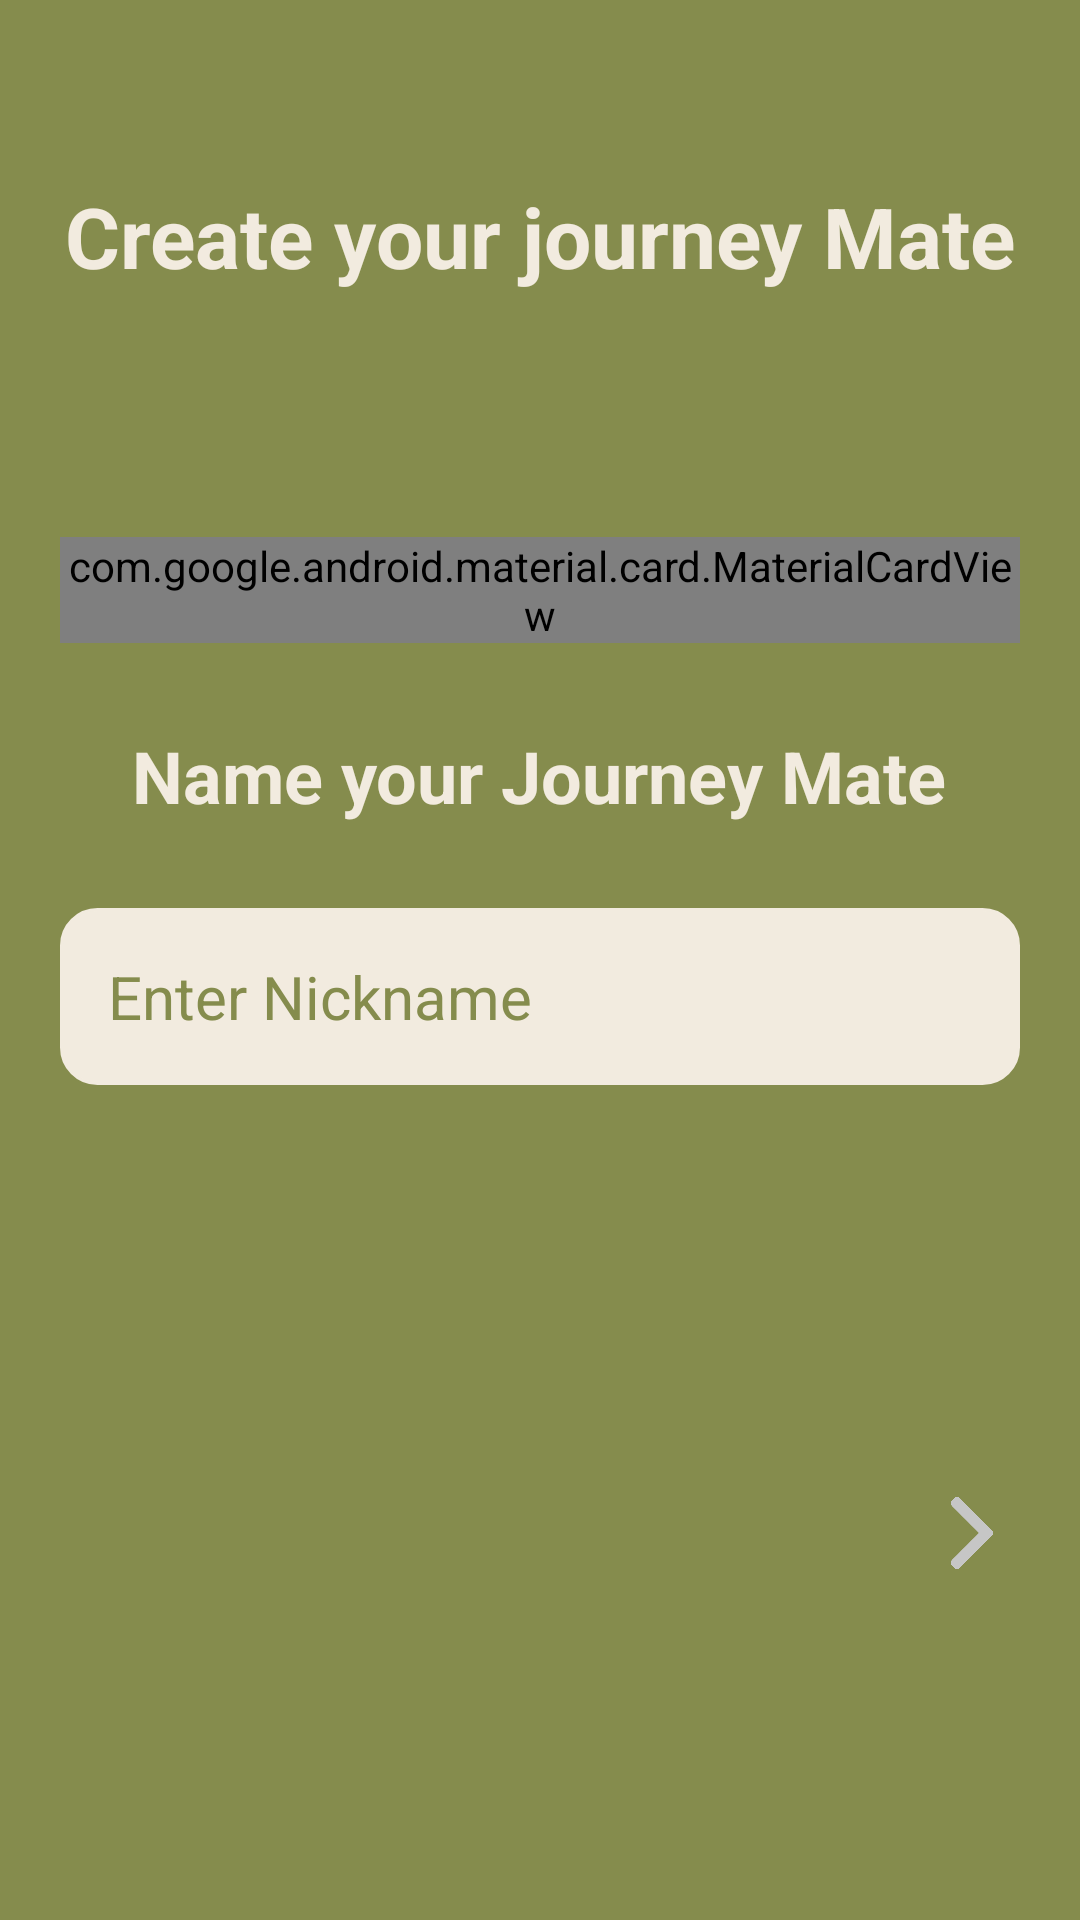

Screen size 1080w x 1920h. Icon name, then its center in pixels as [x,y]:
next arrow unclicked: [972,1533]
